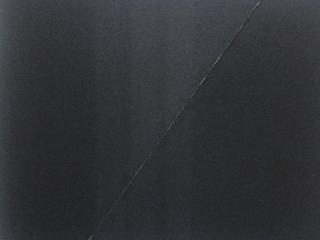crack: (86, 0, 266, 240)
